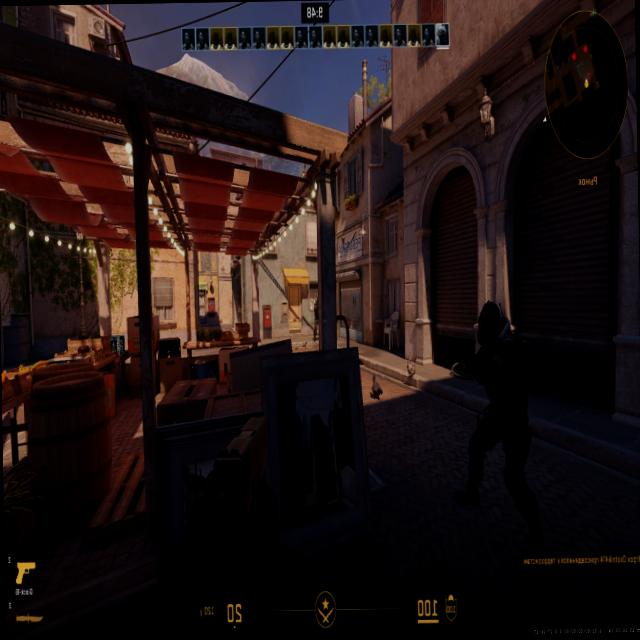CT: (464, 308, 514, 495)
CT_heat: (484, 299, 498, 336)
